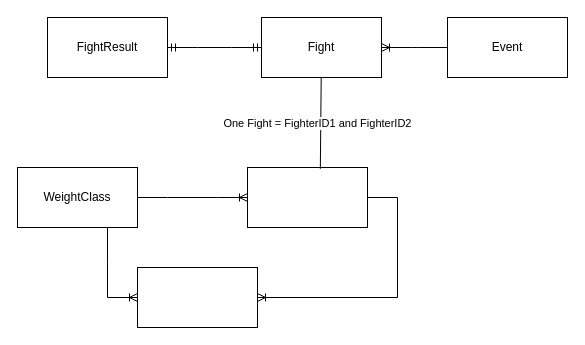
This 585x345 diagram has some shape labels left out. Here are the shapes that lost their labels. From the top down, the centre of each, then its label:
At point (307, 197): "Fighter".
At point (197, 297): "Ranking".
